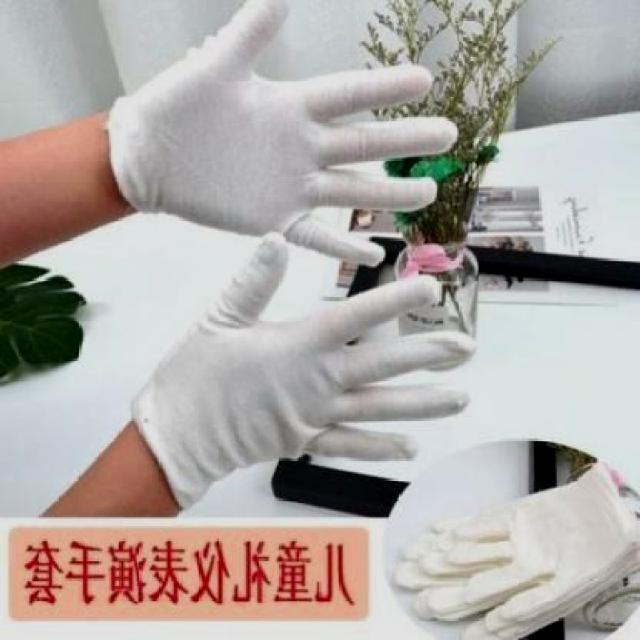hand_glove: (137, 1, 457, 264), (180, 232, 472, 479)
